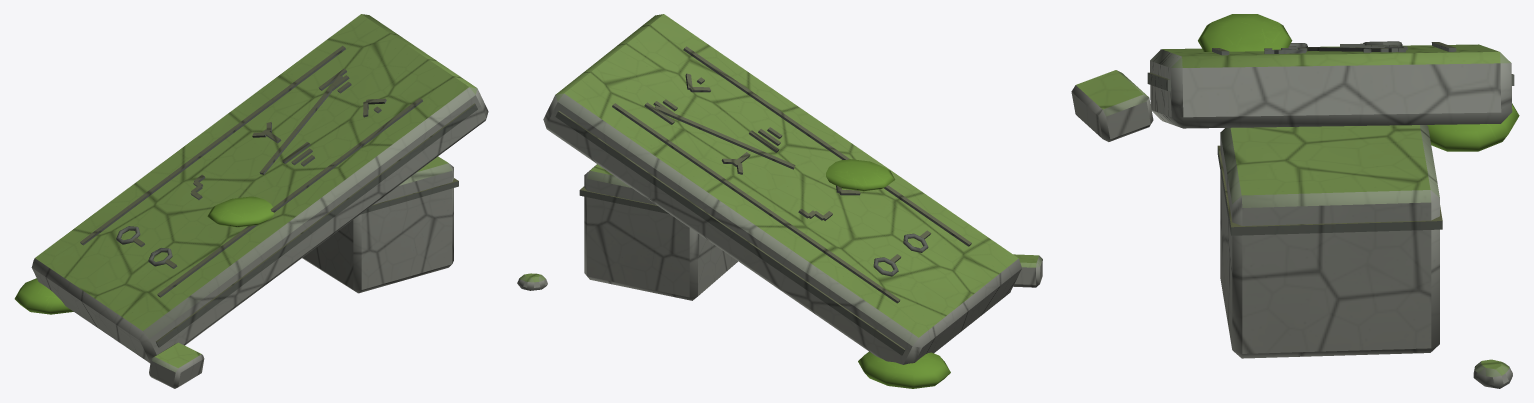
File: stone_slab_fallen.glb
3 views of the same model, side by side, from view 1: azimuth 30°, elevation 25°; view 2: azimuth 150°, elevation 25°; view 3: azimuth 270°, elevation 25° (orthographic). The views are drawn at different scales.
Visible parts, largest first — view 1: stone_slab_fallen; view 2: stone_slab_fallen; view 3: stone_slab_fallen.
Boxes of the visible parts, x1,y1,x2,y2 form: stone_slab_fallen: (14,14,488,388); stone_slab_fallen: (517,14,1042,388); stone_slab_fallen: (1071,14,1519,388).
Bounding box in the file's own units: 3.78 × 1.89 × 2.37.
3 materials, 3 textured.
